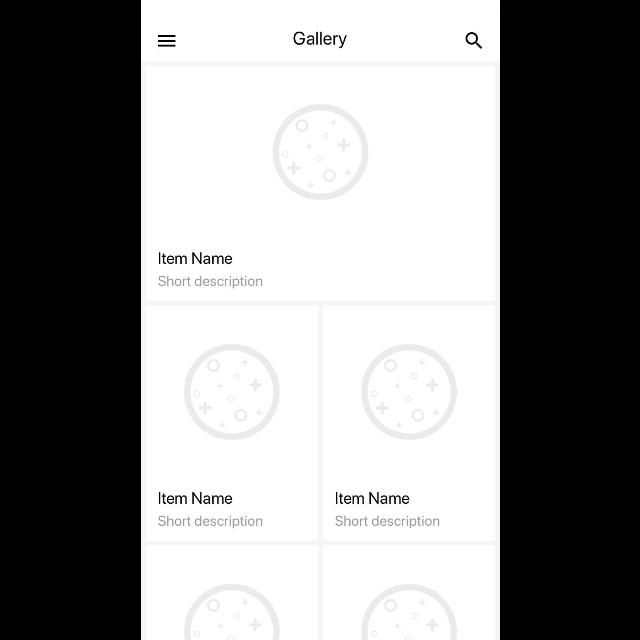icon: (466, 32, 482, 49), (157, 35, 175, 47)
image: (272, 105, 370, 201), (183, 344, 279, 440), (361, 344, 457, 440), (184, 584, 280, 640), (361, 584, 457, 640)
panel: (144, 66, 496, 302), (144, 305, 318, 541), (322, 305, 496, 541), (322, 546, 496, 640), (144, 546, 318, 640)
text: (334, 514, 440, 528), (158, 514, 262, 528), (158, 276, 262, 288), (158, 253, 232, 265), (158, 492, 232, 504), (336, 492, 410, 504), (293, 32, 347, 48)
